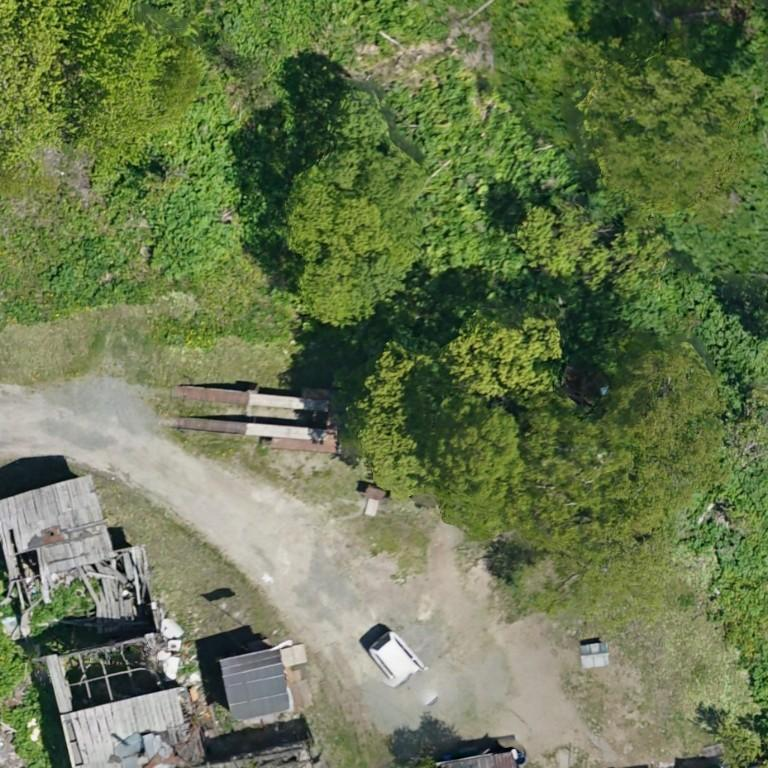hogweed: (149, 88, 256, 278), (690, 523, 767, 699), (41, 238, 145, 308), (728, 461, 767, 521)
